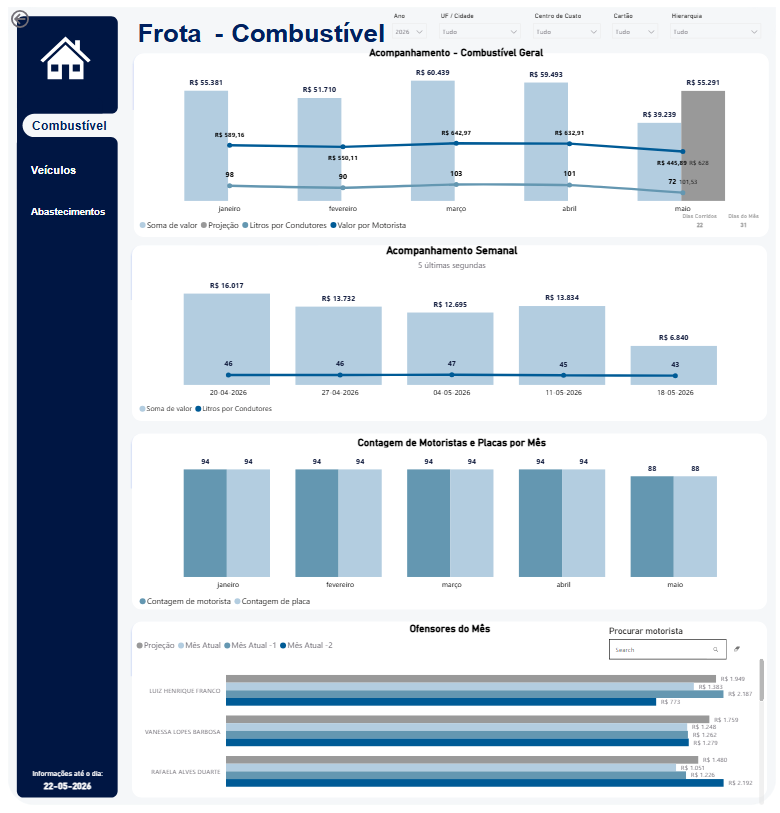

What the dashboard file says about the page in this screenshot:
{"tool":"powerbi","page":{"name":"Combustível","canvas":[1280,1330],"ordinal":0},"visuals":[{"type":"clusteredBarChart","title":"Ofensores do Mês","fields":{"Y":["Medidas.Projeção Ofensores","Medidas.Valor Mês Atual","Medidas.Valor Mês -1","Medidas.Valor Mês -2"],"Category":["comb.motorista"]},"box":[213.3,1025,1066.7,305],"z":0},{"type":"actionButton","box":[0,0,100,40],"z":1000},{"type":"slicer","fields":{"Values":["LocalDateTable_34c397a4-89f2-4293-b755-bbb81473905c.Ano"]},"box":[630.8,2.7,77.5,50],"z":2000},{"type":"slicer","fields":{"Values":["tbhierarquia.CENTRO DE CUSTO"]},"box":[864.3,2.9,132.9,50],"z":3000},{"type":"lineClusteredColumnComboChart","title":"Acompanhamento - Combustível Geral","fields":{"Y2":["Medidas Combustível.Litros por Condutores","Medidas Combustível.Valor por Motorista"],"Y":["Sum(comb.valor)","Medidas.Projeção Ofensores"],"Category":["comb.data.Variation.Hierarquia de datas.Mês"]},"box":[213,65.1,1067.5,317.5],"z":3000,"group":"g1"},{"type":"card","title":"Dias Corridos","fields":{"Values":["Medidas.Dias Corridos Fixo"]},"box":[1116.8,343.9,72.5,38.8],"z":4000,"group":"g1"},{"type":"textFilter25A4896A83E0487089E2B90C9AE57C8A","title":"Procurar motorista","fields":{"field":["comb.motorista"]},"box":[996.7,1031.7,240,63.3],"z":4000},{"type":"card","title":"Dias  do Mês","fields":{"Values":["Medidas.Dias do Mês"]},"box":[1189.4,343.7,72.2,38.9],"z":5000,"group":"g1"},{"type":"lineClusteredColumnComboChart","title":"Contagem de Motoristas e Placas por Mês","fields":{"Category":["comb.data.Variation.Hierarquia de datas.Mês"],"Y":["Count(comb.motorista)","Count(comb.placa)"]},"box":[213,715,1052.9,294.3],"z":5000},{"type":"card","title":"Informações até o dia:","fields":{"Values":["Medidas.Última Atualização"]},"box":[20,1270,158.3,50],"z":6000},{"type":"slicer","fields":{"Values":["tbhierarquia.GERENTE","tbhierarquia.COORDENADOR","tbhierarquia.SUPERVISOR"]},"box":[1094,3,172,50],"z":7000},{"type":"slicer","fields":{"Values":["comb.uf","comb.cidade"]},"box":[708.3,2.7,156.2,50],"z":8000},{"type":"lineClusteredColumnComboChart","title":"Acompanhamento Semanal","fields":{"Y2":["Medidas Combustível.Litros por Condutores"],"Y":["Sum(comb.valor)"],"Category":["comb.InicioSemana"]},"box":[213,395,1052.9,292.9],"z":9000},{"type":"group","id":"g1","title":"Grupo 1","box":[213,65.1,1067.5,317.5],"z":10000},{"type":"slicer","fields":{"Values":["comb.tipo_cartao"]},"box":[997,3,97,50],"z":14000},{"type":"actionButton","box":[20,245.7,158.6,55.7],"z":14001},{"type":"actionButton","box":[20,314.3,158.6,58.6],"z":14002}]}

Visuals, with their boxes on the page's 1280x1330 design canvas (x1, y1, x2, y2). These are canvas units, not pixel positions in the 780x813 screenshot, which may show the page scaled, cropped or inside an application window:
"Ofensores do Mês" clusteredBarChart: box(213, 1025, 1280, 1330)
actionButton: box(0, 0, 100, 40)
slicer - LocalDateTable_34c397a4-89f2-4293-b755-bbb81473905c.Ano: box(631, 3, 708, 53)
slicer - tbhierarquia.CENTRO DE CUSTO: box(864, 3, 997, 53)
"Acompanhamento - Combustível Geral" lineClusteredColumnComboChart: box(213, 65, 1280, 383)
"Dias Corridos" card: box(1117, 344, 1189, 383)
"Procurar motorista" textFilter25A4896A83E0487089E2B90C9AE57C8A: box(997, 1032, 1237, 1095)
"Dias  do Mês" card: box(1189, 344, 1262, 383)
"Contagem de Motoristas e Placas por Mês" lineClusteredColumnComboChart: box(213, 715, 1266, 1009)
"Informações até o dia:" card: box(20, 1270, 178, 1320)
slicer - tbhierarquia.GERENTE x tbhierarquia.COORDENADOR: box(1094, 3, 1266, 53)
slicer - comb.uf x comb.cidade: box(708, 3, 864, 53)
"Acompanhamento Semanal" lineClusteredColumnComboChart: box(213, 395, 1266, 688)
"Grupo 1" group: box(213, 65, 1280, 383)
slicer - comb.tipo_cartao: box(997, 3, 1094, 53)
actionButton: box(20, 246, 179, 301)
actionButton: box(20, 314, 179, 373)
